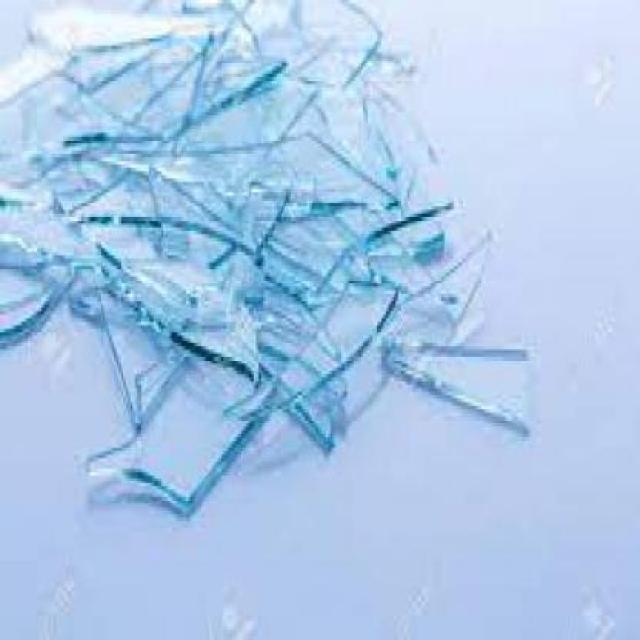kaca: (80, 340, 266, 505), (86, 220, 254, 382), (144, 123, 390, 228), (218, 274, 396, 414), (0, 46, 158, 195), (65, 28, 212, 148), (379, 326, 526, 431), (217, 46, 361, 151), (94, 277, 180, 431), (220, 210, 348, 302), (395, 225, 491, 346), (254, 304, 332, 450), (0, 162, 100, 272), (19, 0, 203, 57), (355, 129, 454, 231), (165, 46, 277, 134), (192, 0, 303, 82), (57, 129, 148, 220), (355, 88, 431, 175), (0, 252, 72, 339), (303, 0, 377, 77), (140, 214, 235, 272), (144, 172, 218, 245), (348, 27, 415, 84), (59, 252, 112, 318), (364, 242, 422, 290), (448, 266, 486, 329), (400, 214, 445, 255)
